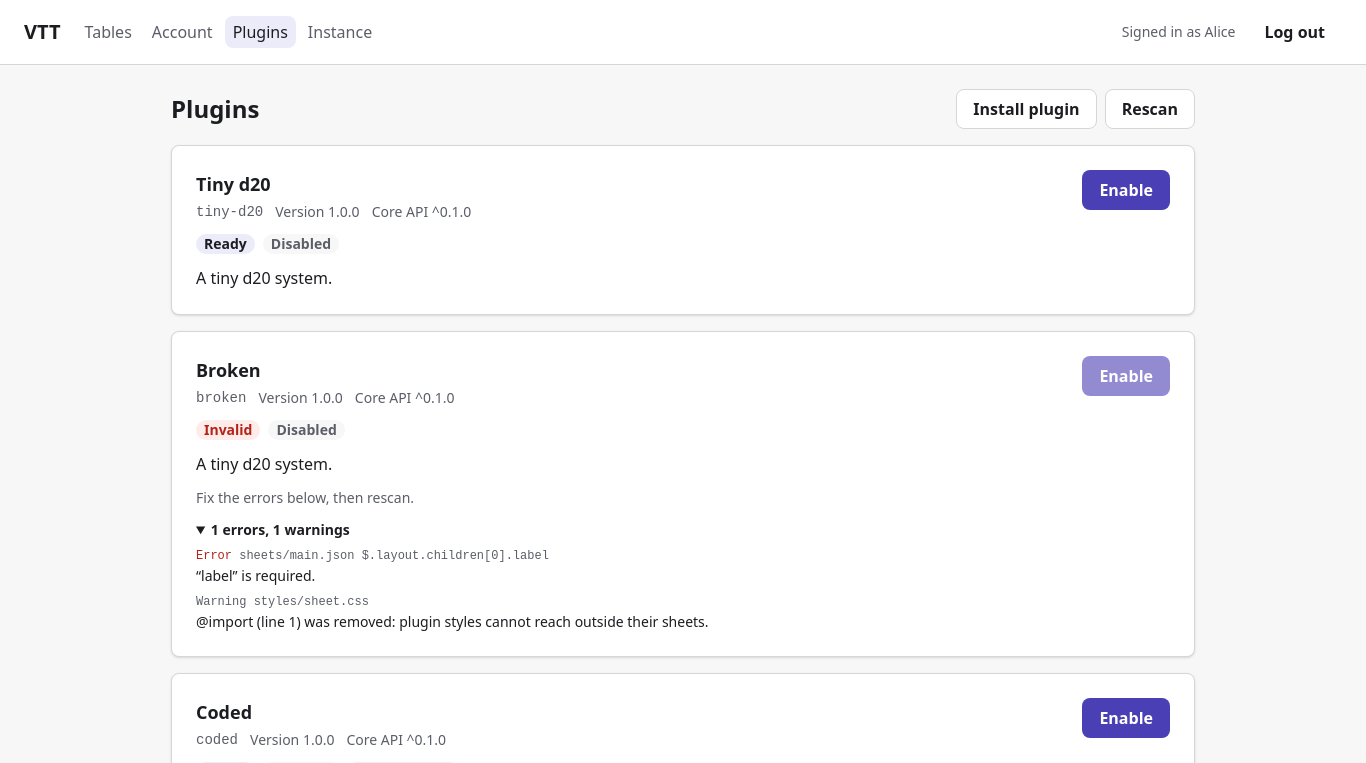
Test case: plugin admin page (T-0406, FR-ADMIN-02) › rescans and reports failures
The image size is (1366, 763).
Click the button "Rescan".
click(1150, 109)  # box [1105, 89, 1195, 129]
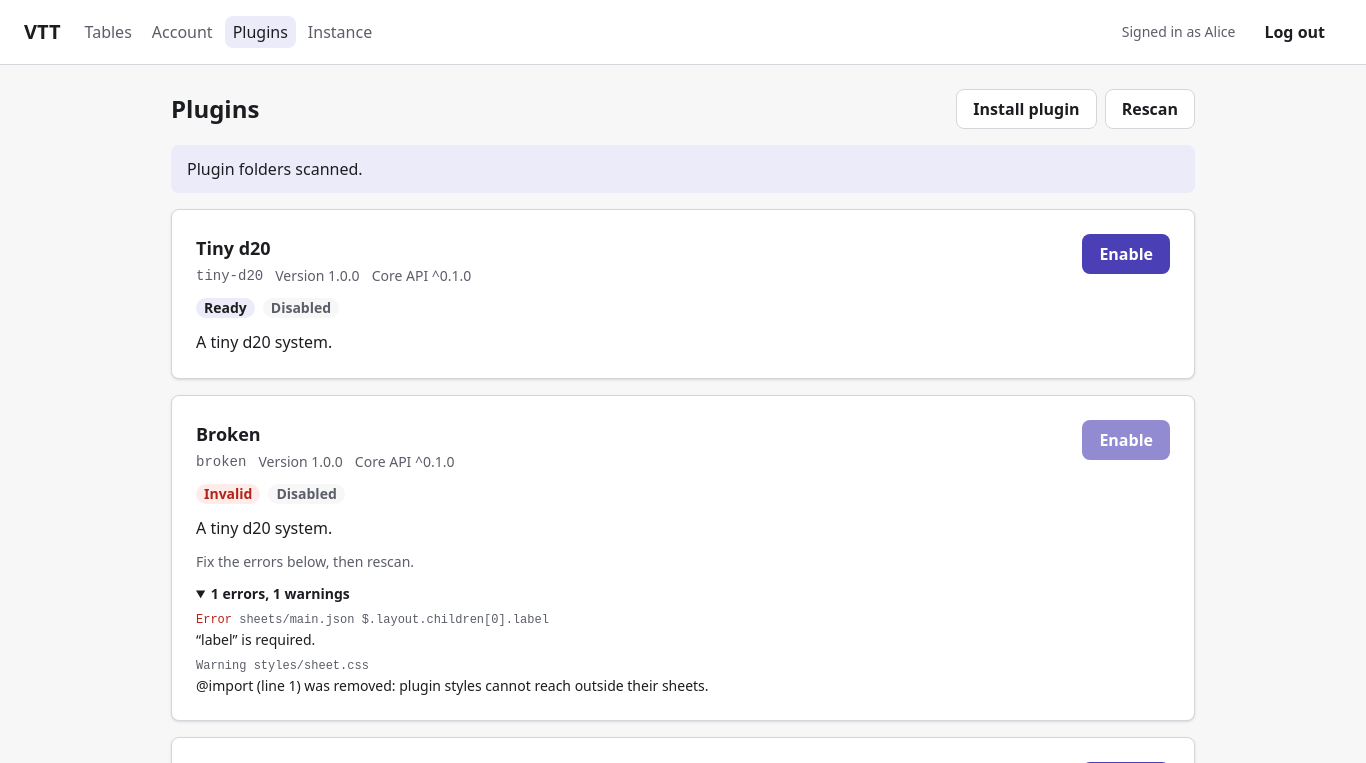
Expected: the text "Plugin folders scanned." is shown, [171, 145, 1195, 193]
Click the button "Enable" in the row of "tiny-d20".
click(1126, 254)  # box [1082, 234, 1170, 274]
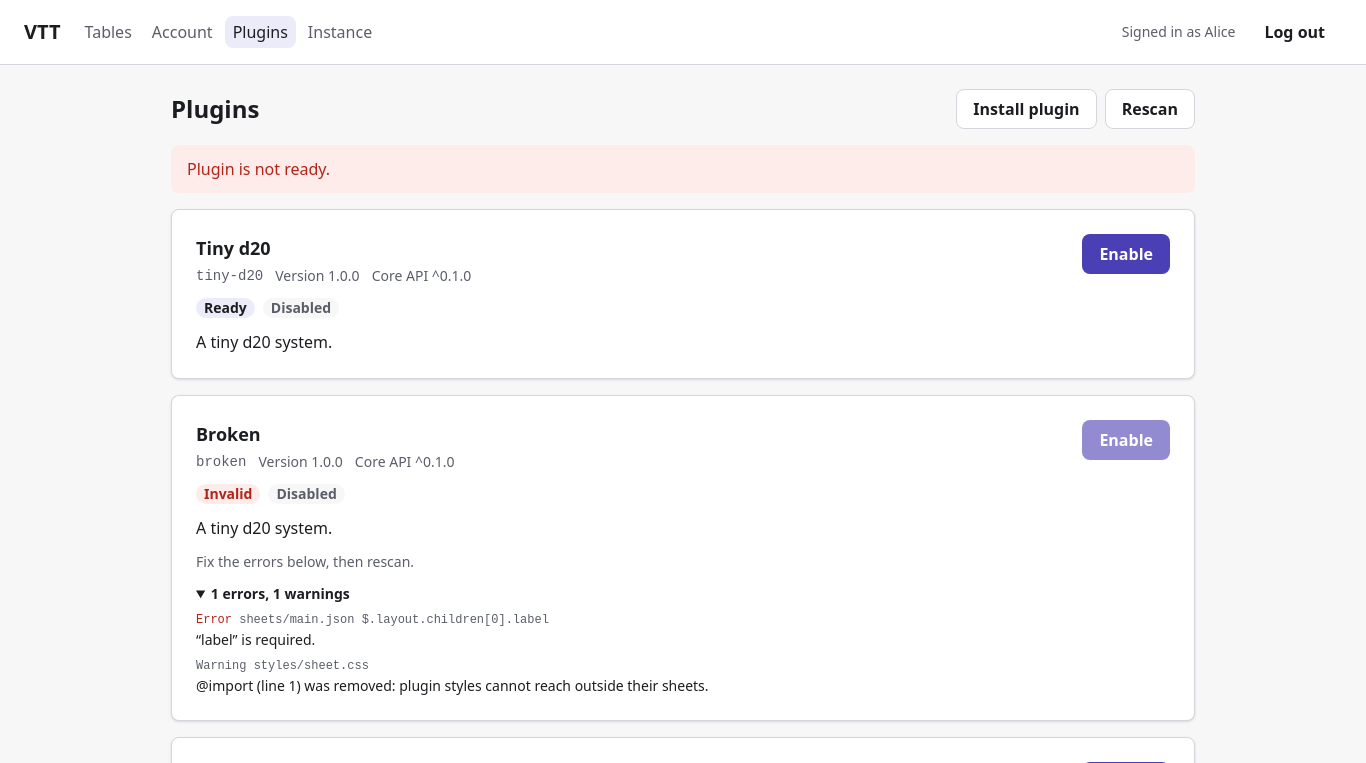
Expected: the message reads "Plugin is not ready.", [187, 158, 330, 180]
